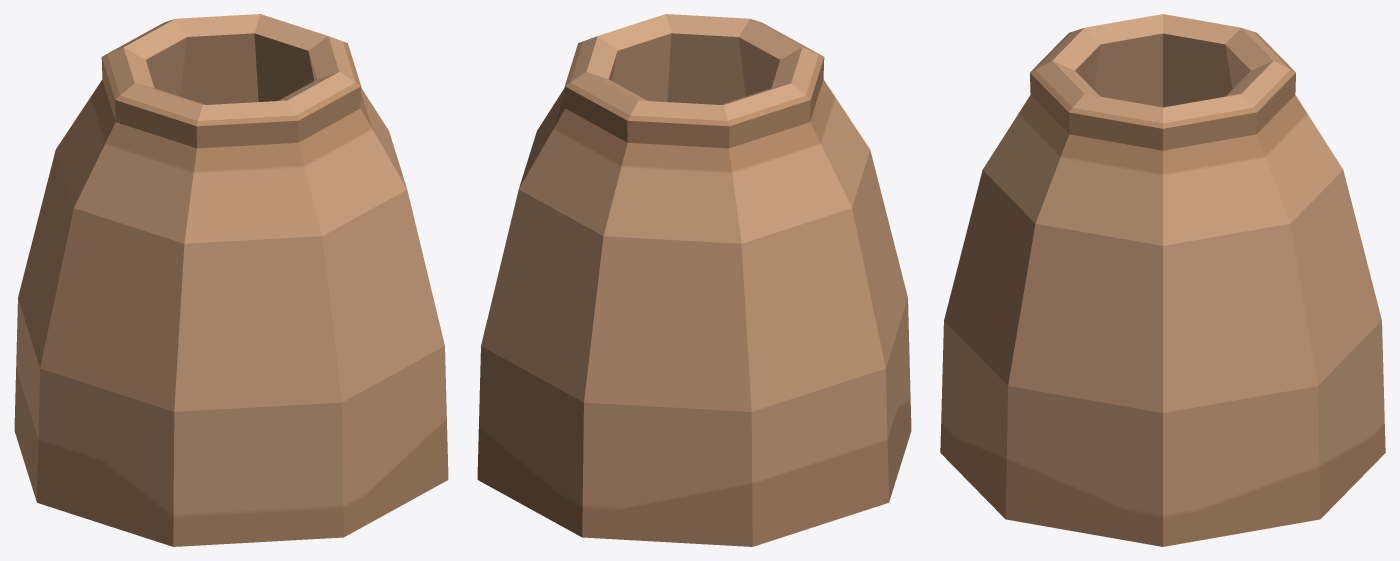
Rendered from SM_Prop_ClayJar_04.glb.
The picture shows the model from 3 angles, left to right: view 1: azimuth 30°, elevation 25°; view 2: azimuth 150°, elevation 25°; view 3: azimuth 270°, elevation 25°; orthographic projection.
Parts seen in each view (by area): view 1: SM_Prop_ClayJar_04; view 2: SM_Prop_ClayJar_04; view 3: SM_Prop_ClayJar_04.
Boxes of the visible parts, x1,y1,x2,y2 form: SM_Prop_ClayJar_04: (14, 14, 448, 546); SM_Prop_ClayJar_04: (477, 14, 911, 546); SM_Prop_ClayJar_04: (940, 14, 1385, 546).
Bounding box in the file's own units: 0.7336 × 0.7129 × 0.7336.
Materials: 1 (1 with a texture image).
